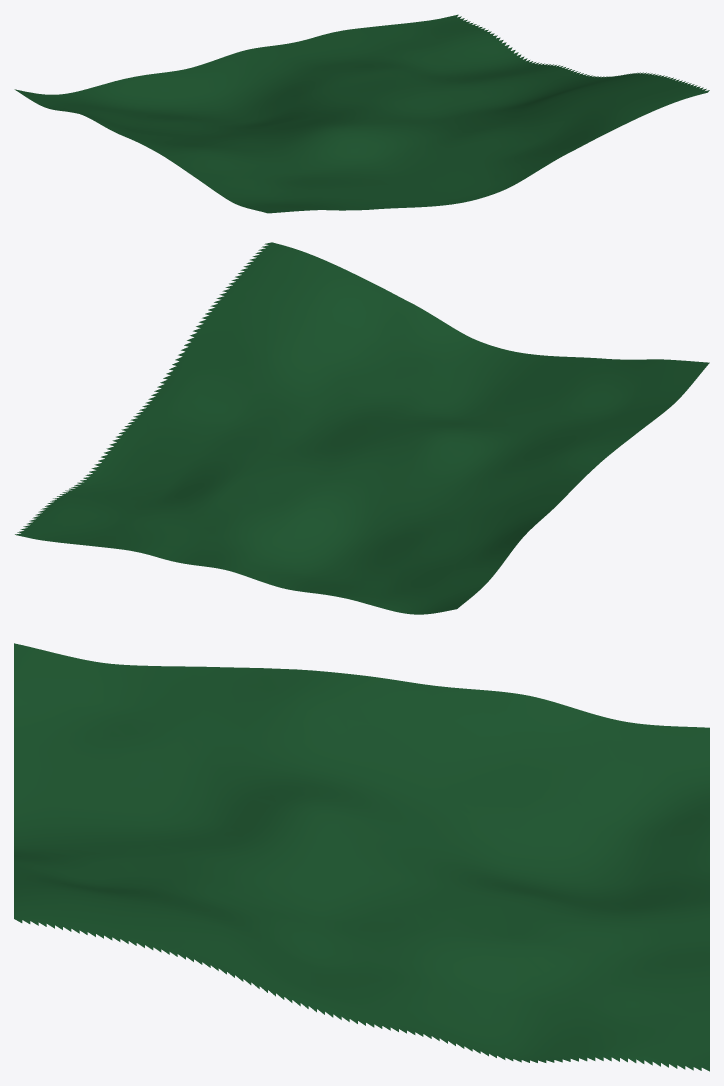
Rendered from payo_land_xm1_ym3_lod1.glb.
The picture shows the model from 3 angles, top to bottom: view 1: azimuth 30°, elevation 25°; view 2: azimuth 150°, elevation 25°; view 3: azimuth 270°, elevation 25°; orthographic projection. The views are drawn at different scales.
Parts seen in each view (by area): view 1: payo_land_xm1_ym3; view 2: payo_land_xm1_ym3; view 3: payo_land_xm1_ym3.
Part boxes in pixels (x1=…): payo_land_xm1_ym3: x1=14, y1=14, x2=709, y2=213; payo_land_xm1_ym3: x1=15, y1=242, x2=709, y2=614; payo_land_xm1_ym3: x1=14, y1=643, x2=709, y2=1071.
Bounding box in the file's own units: 258 × 60.37 × 255.
